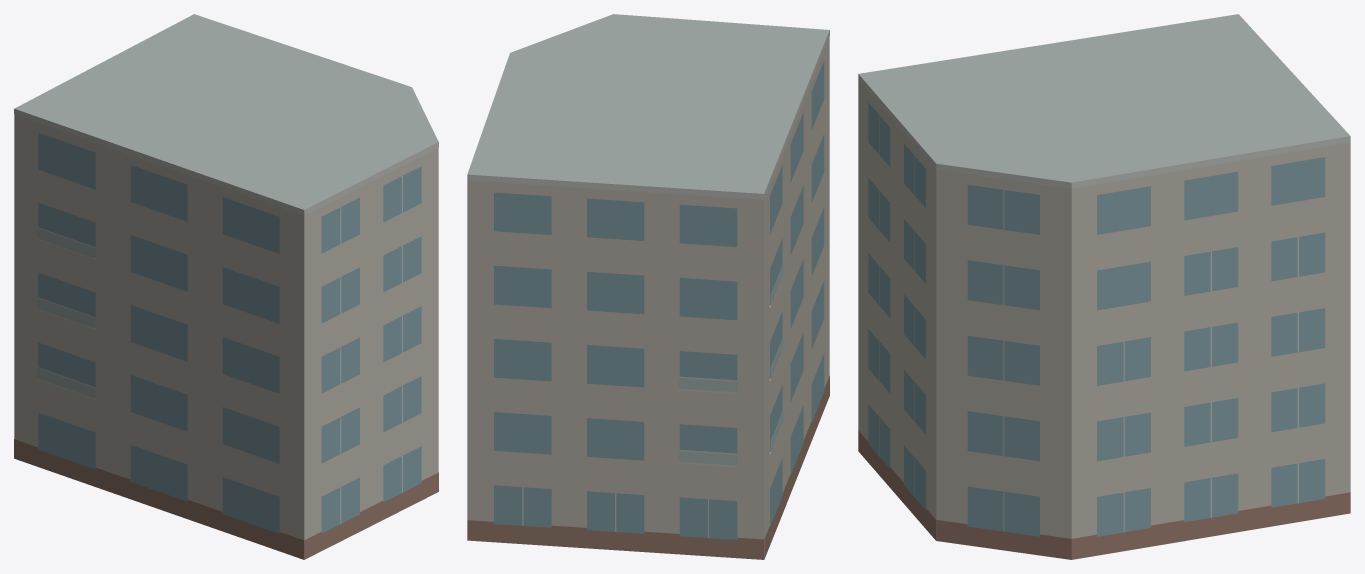
File: survey-upis-32861569.glb
The picture shows the model from 3 angles, left to right: view 1: azimuth 30°, elevation 25°; view 2: azimuth 150°, elevation 25°; view 3: azimuth 270°, elevation 25°; orthographic projection. The views are drawn at different scales.
Visible parts, largest first — view 1: survey-upis-32861569.tmp; view 2: survey-upis-32861569.tmp; view 3: survey-upis-32861569.tmp.
Part boxes in pixels (<box>): survey-upis-32861569.tmp: <box>14,14,438,559</box>; survey-upis-32861569.tmp: <box>467,14,829,559</box>; survey-upis-32861569.tmp: <box>858,14,1350,559</box>.
Size of the model in its own units: 14.53 by 15.15 by 17.93.
